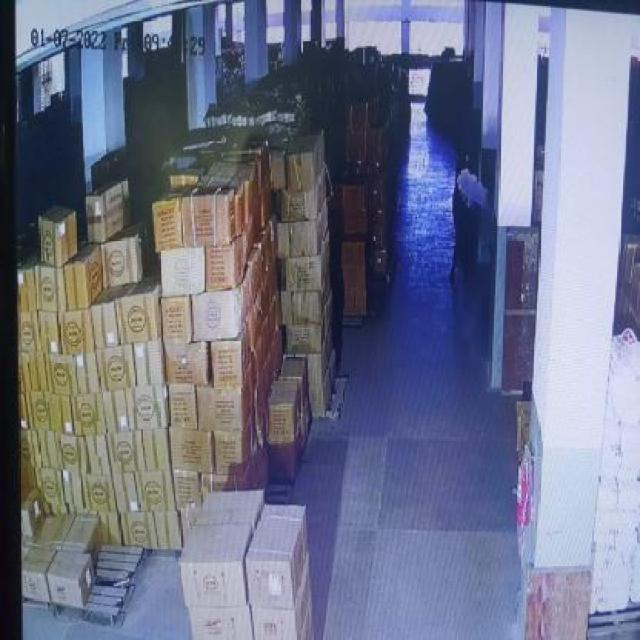fire: (454, 160, 488, 218)
